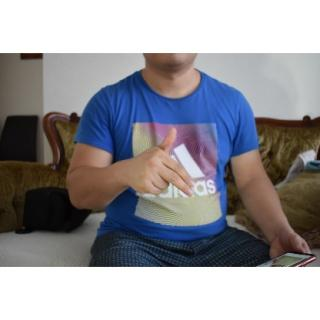GHAYN: (128, 126, 200, 205)
